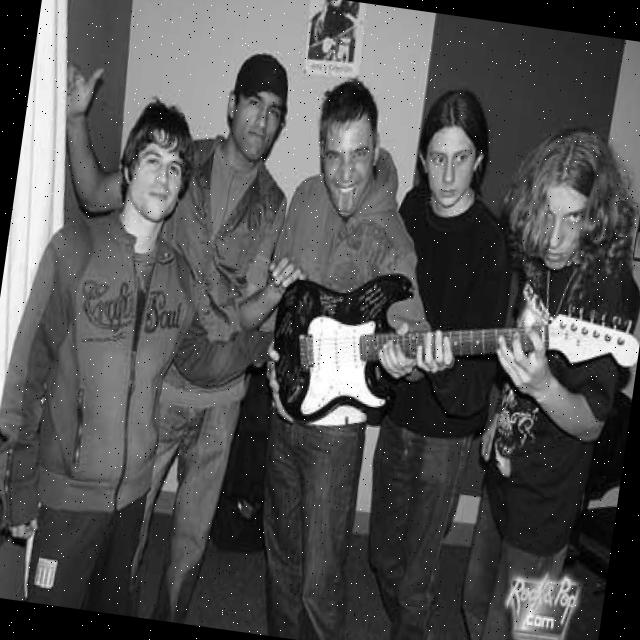guitar: (263, 254, 640, 469)
